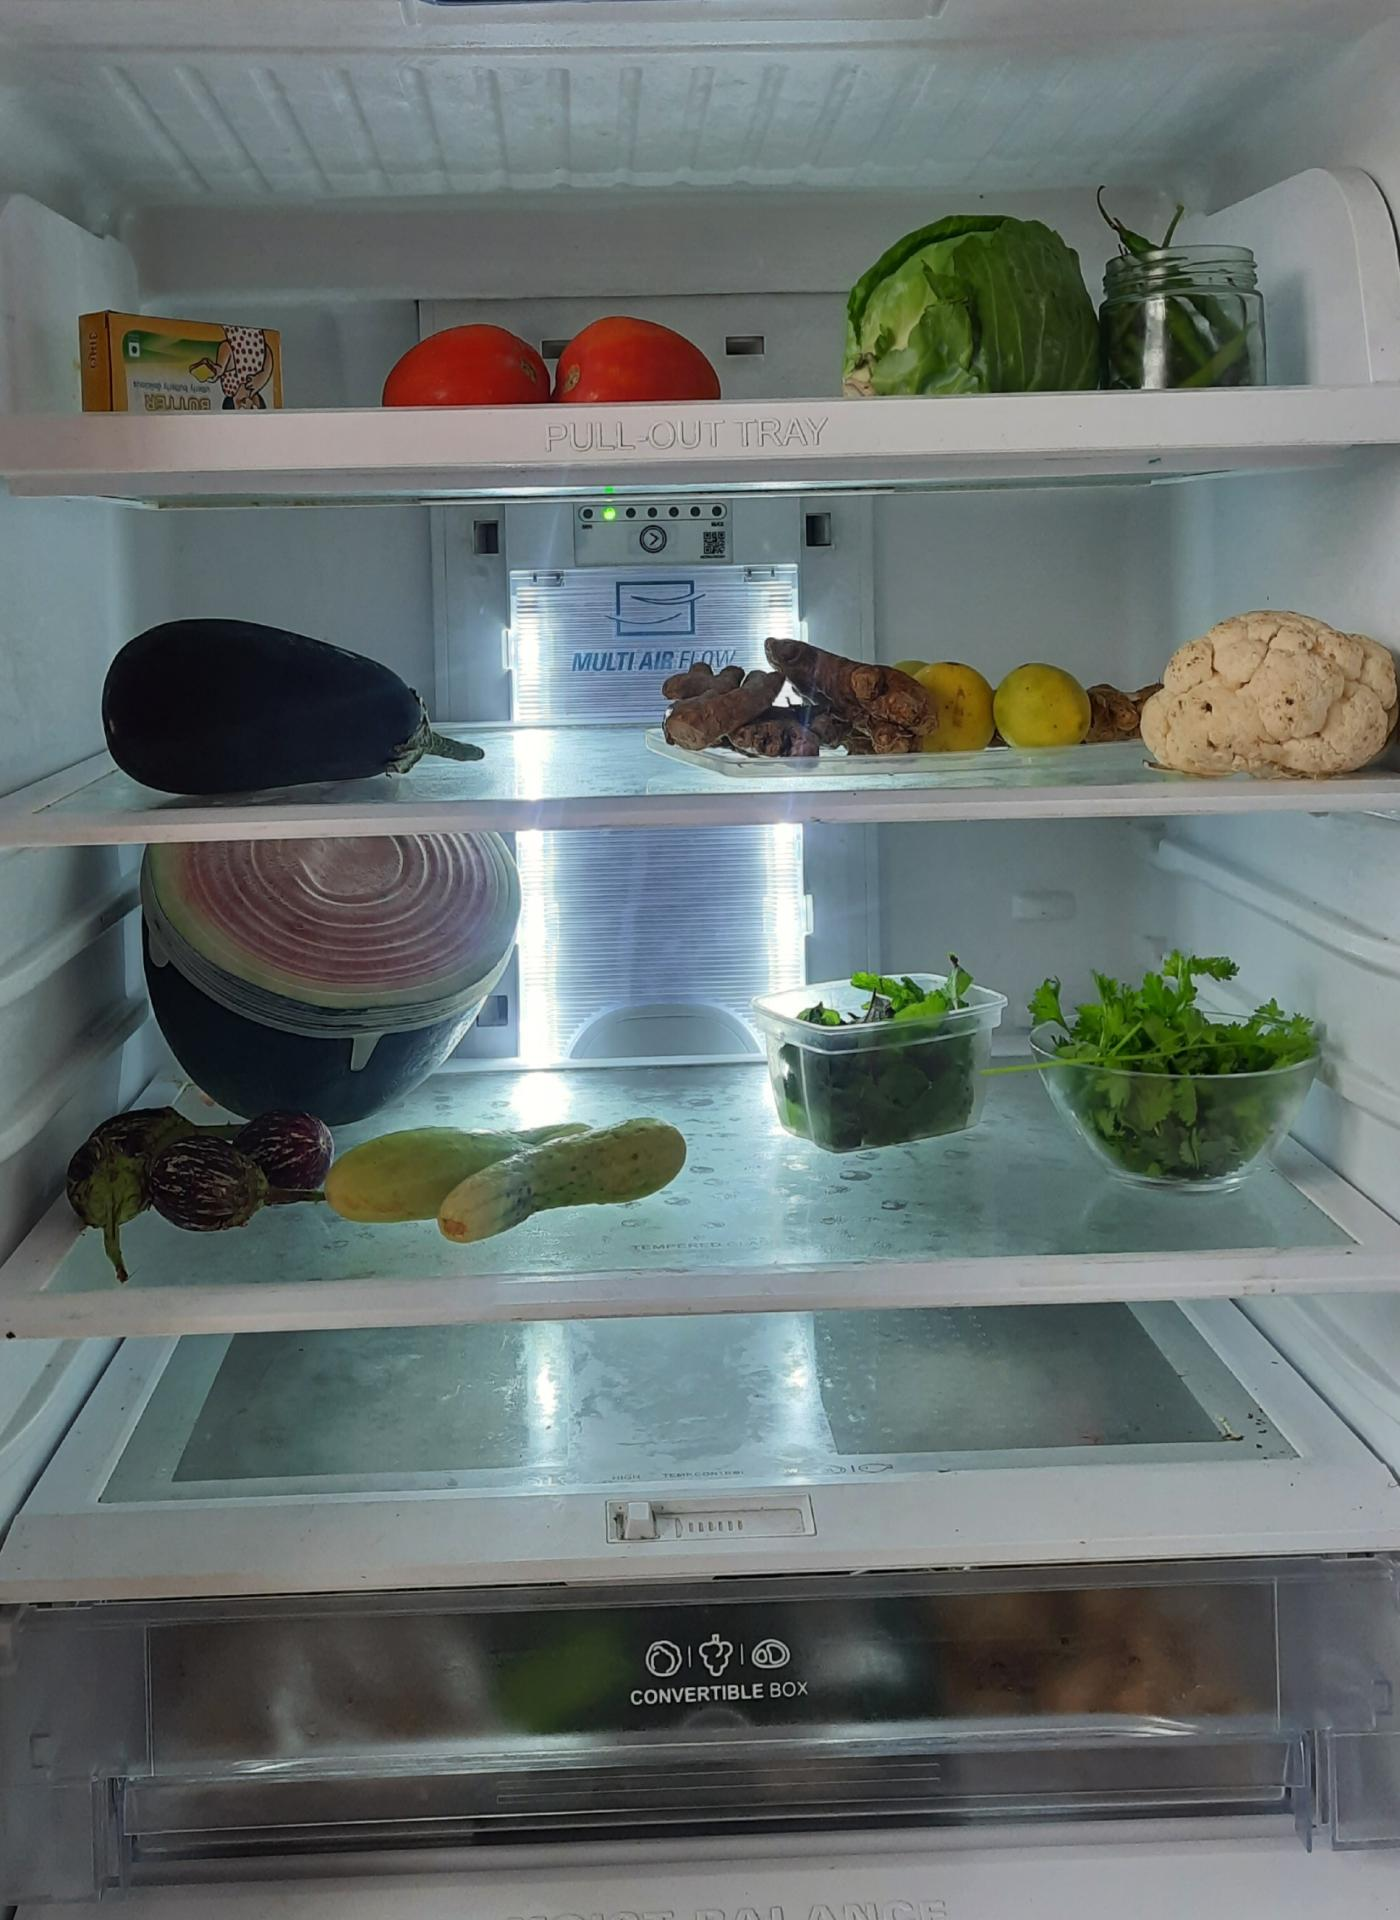basil: (756, 967, 1002, 1149)
brinjal: (109, 616, 486, 799), (73, 1096, 352, 1231)
butter: (81, 297, 289, 417)
cabbage: (841, 209, 1106, 392)
cauliflower: (1144, 619, 1396, 769)
chillies: (1093, 188, 1267, 385)
coriander: (1047, 954, 1324, 1185)
cucumber: (309, 1105, 692, 1243)
ginger: (649, 634, 933, 769)
lemon: (923, 656, 1097, 754)
tomato: (379, 316, 731, 411), (528, 309, 725, 404), (380, 313, 558, 405)
watermelon: (131, 830, 520, 1131)
